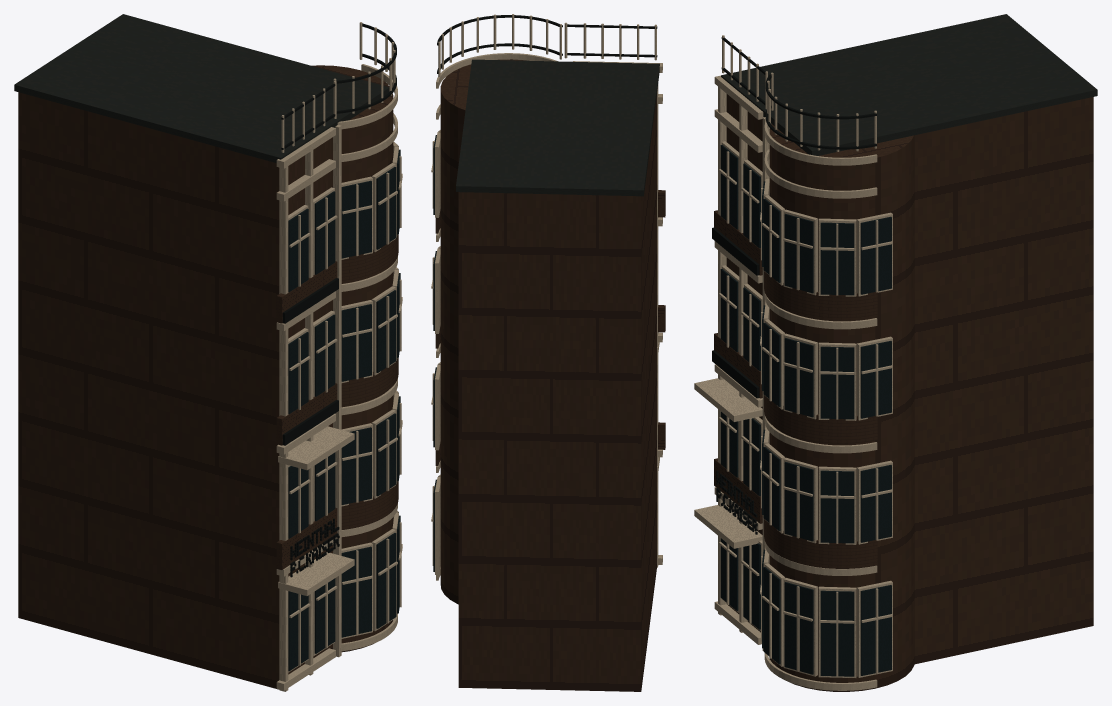
3 renders of one model, left to right at view 1: azimuth 30°, elevation 25°; view 2: azimuth 150°, elevation 25°; view 3: azimuth 270°, elevation 25°, orthographic. The views are drawn at different scales.
Parts seen in each view (by area): view 1: paul-kaiser-weinthal-0, paul-kaiser-weinthal-1, paul-kaiser-weinthal-2, paul-kaiser-weinthal-4, paul-kaiser-weinthal-3; view 2: paul-kaiser-weinthal-0, paul-kaiser-weinthal-2, paul-kaiser-weinthal-1, paul-kaiser-weinthal-3, paul-kaiser-weinthal-4; view 3: paul-kaiser-weinthal-0, paul-kaiser-weinthal-4, paul-kaiser-weinthal-1, paul-kaiser-weinthal-2, paul-kaiser-weinthal-3.
Part boxes in pixels (x1,y1,x2,y2): paul-kaiser-weinthal-0: (18, 65, 398, 689); paul-kaiser-weinthal-1: (276, 22, 402, 691); paul-kaiser-weinthal-2: (14, 14, 389, 162); paul-kaiser-weinthal-4: (288, 146, 400, 671); paul-kaiser-weinthal-3: (281, 23, 396, 577); paul-kaiser-weinthal-0: (435, 59, 665, 691); paul-kaiser-weinthal-2: (456, 59, 659, 196); paul-kaiser-weinthal-1: (431, 14, 662, 580); paul-kaiser-weinthal-3: (437, 15, 657, 73); paul-kaiser-weinthal-4: (433, 135, 436, 571); paul-kaiser-weinthal-0: (714, 94, 1093, 691); paul-kaiser-weinthal-4: (720, 145, 891, 676); paul-kaiser-weinthal-1: (694, 35, 892, 690); paul-kaiser-weinthal-2: (721, 14, 1097, 155); paul-kaiser-weinthal-3: (712, 37, 876, 534).
Bounding box in the file's own units: 11.81 × 21.9 × 13.85.
5 materials, 5 textured.
